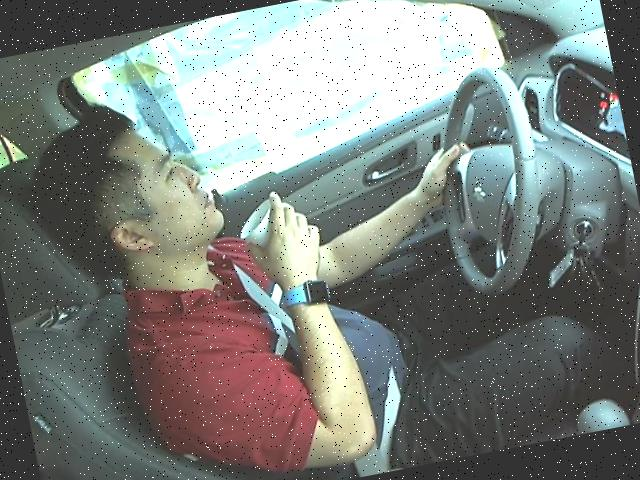c4 - Drinking: (10, 14, 597, 479)
